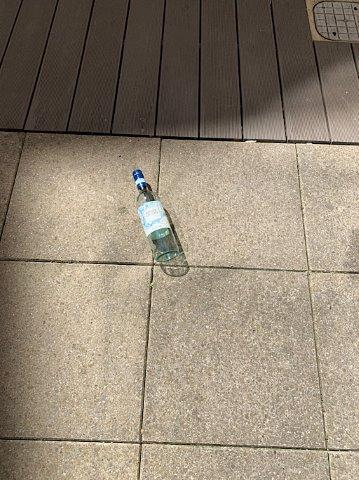botolkaca: (130, 169, 180, 263)
